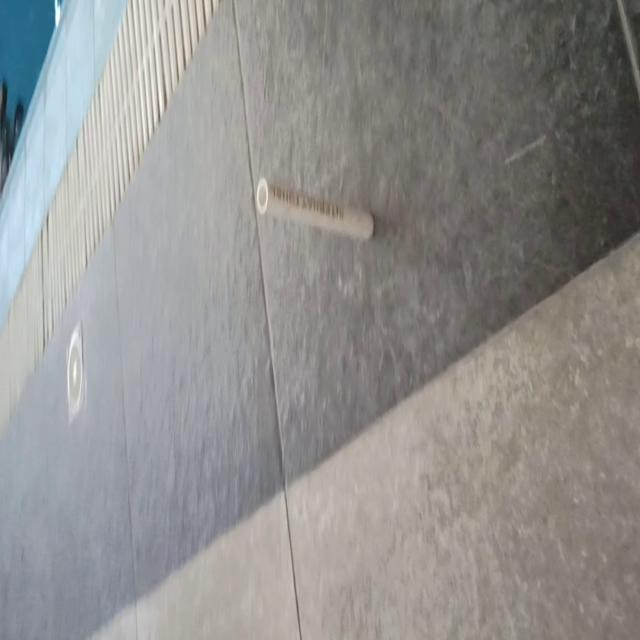Cube: (255, 175, 375, 243)
